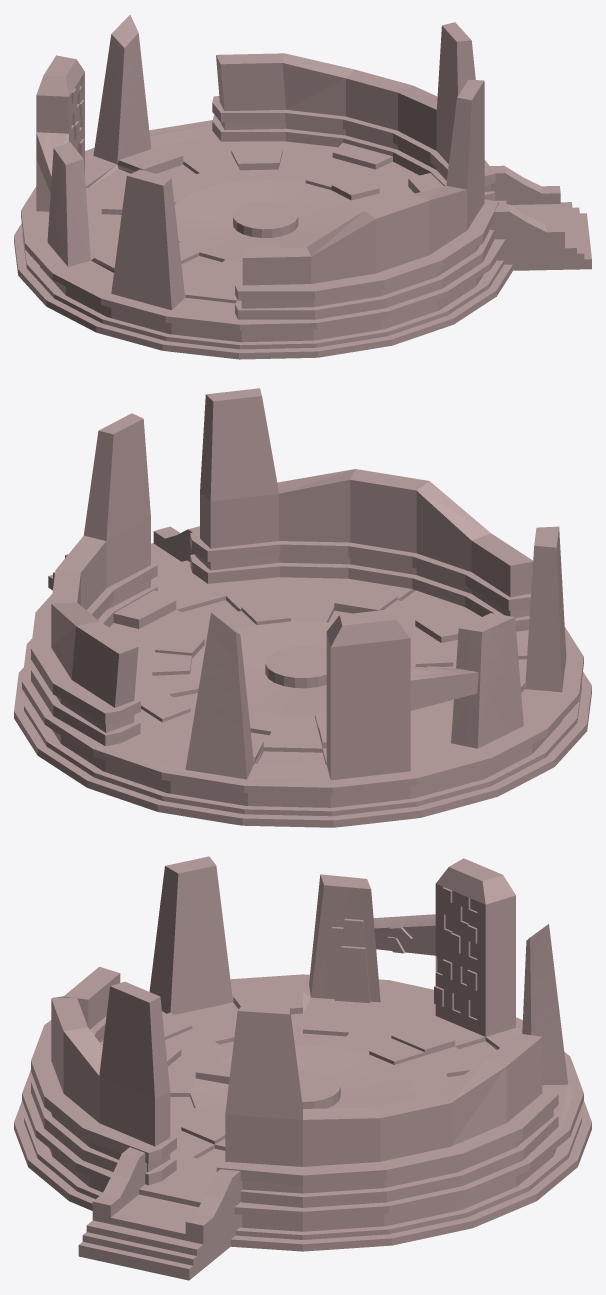
File: sanctuaryruinstextured.fbx
3 views of the same model, one above another, from view 1: azimuth 30°, elevation 25°; view 2: azimuth 150°, elevation 25°; view 3: azimuth 270°, elevation 25° (orthographic). The views are drawn at different scales.
Visible parts, largest first — view 1: pCube2; view 2: pCube2; view 3: pCube2.
Part boxes in pixels (x1,y1,x2,y2): pCube2: (14,15,591,359); pCube2: (14,388,591,827); pCube2: (14,856,591,1280).
Size of the model in its own units: 10.48 by 3.89 by 9.36.
